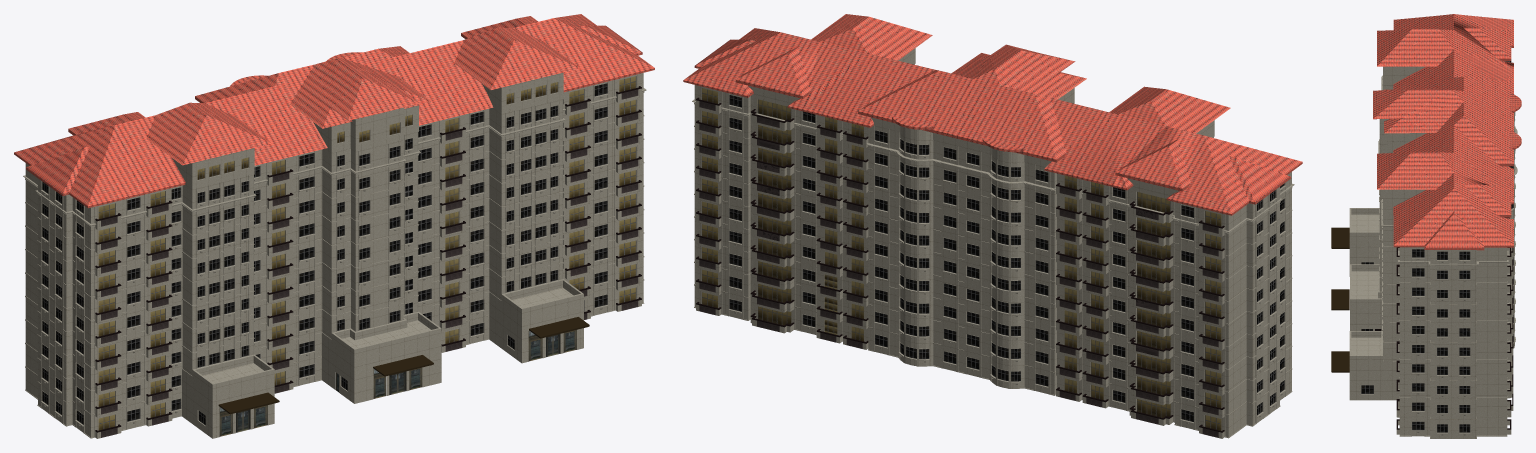
File: builder_4.FBX
3 renders of one model, left to right at view 1: azimuth 30°, elevation 25°; view 2: azimuth 150°, elevation 25°; view 3: azimuth 270°, elevation 25°, orthographic. The views are drawn at different scales.
Visible parts, largest first — view 1: BLD_xifu_fw11, BLD_xifu_fw03, BLD_xifu_fw02, BLD_xifu_fw05, BLD_xifu_fw07, BLD_xifu_fw06, BLD_xifu_fw08, BLD_xifu_fw04, BLD_xifu_fw09, BLD_xifu_fw01, BLD_xifu_fw10, BLD_xifu_fw00; view 2: BLD_xifu_fw11, BLD_xifu_fw07, BLD_xifu_fw03, BLD_xifu_fw02, BLD_xifu_fw04, BLD_xifu_fw06, BLD_xifu_fw08, BLD_xifu_fw01, BLD_xifu_fw05, BLD_xifu_fw09, BLD_xifu_fw10, BLD_xifu_fw00; view 3: BLD_xifu_fw11, BLD_xifu_fw03, BLD_xifu_fw02, BLD_xifu_fw01, BLD_xifu_fw04, BLD_xifu_fw05, BLD_xifu_fw07, BLD_xifu_fw08, BLD_xifu_fw06, BLD_xifu_fw09, BLD_xifu_fw10, BLD_xifu_fw00.
Boxes of the visible parts, x1,y1,x2,y2 form: BLD_xifu_fw11: (14,14,654,208); BLD_xifu_fw03: (25,233,644,391); BLD_xifu_fw02: (25,257,644,415); BLD_xifu_fw05: (25,186,644,344); BLD_xifu_fw07: (25,139,644,297); BLD_xifu_fw06: (25,163,644,321); BLD_xifu_fw08: (25,116,643,274); BLD_xifu_fw04: (25,210,644,368); BLD_xifu_fw09: (25,92,644,250); BLD_xifu_fw01: (25,280,644,438); BLD_xifu_fw10: (23,73,646,227); BLD_xifu_fw00: (172,72,563,188); BLD_xifu_fw11: (683,14,1302,215); BLD_xifu_fw07: (694,149,1292,302); BLD_xifu_fw03: (694,240,1292,393); BLD_xifu_fw02: (694,262,1292,416); BLD_xifu_fw04: (694,217,1292,370); BLD_xifu_fw06: (694,172,1292,325); BLD_xifu_fw08: (694,126,1292,279); BLD_xifu_fw01: (694,285,1292,438); BLD_xifu_fw05: (694,194,1292,347); BLD_xifu_fw09: (694,103,1291,257); BLD_xifu_fw10: (692,63,1294,234); BLD_xifu_fw00: (748,48,1214,194); BLD_xifu_fw11: (1373,14,1521,250); BLD_xifu_fw03: (1349,208,1515,400); BLD_xifu_fw02: (1331,227,1515,419); BLD_xifu_fw01: (1349,258,1515,438); BLD_xifu_fw04: (1379,246,1515,381); BLD_xifu_fw05: (1379,217,1515,362); BLD_xifu_fw07: (1379,177,1515,323); BLD_xifu_fw08: (1379,189,1515,304); BLD_xifu_fw06: (1379,216,1515,342); BLD_xifu_fw09: (1382,61,1515,285); BLD_xifu_fw10: (1378,61,1517,266); BLD_xifu_fw00: (1379,66,1515,208).
Bounding box in the file's own units: 61632 × 29386 × 21475.
